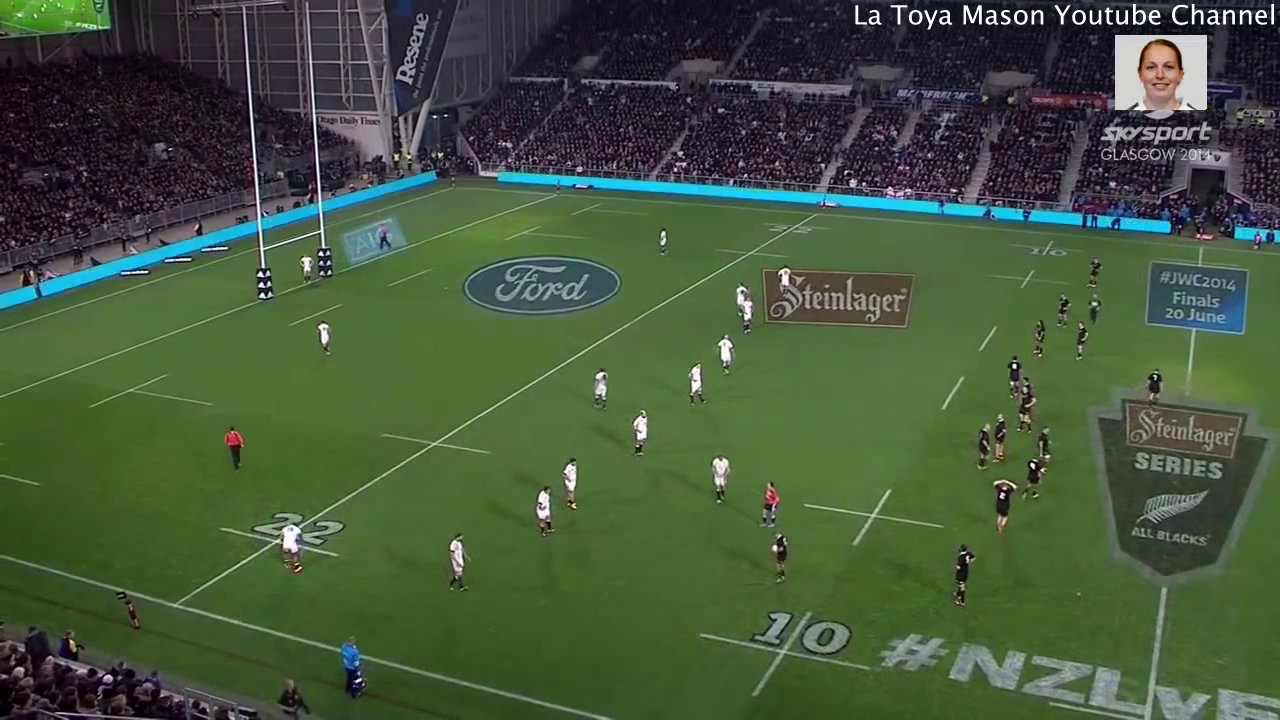10_metre: (692, 604, 879, 704), (801, 486, 947, 553), (1008, 238, 1084, 263), (985, 268, 1071, 290)
ball: (770, 540, 779, 552)
player: (443, 528, 473, 598), (763, 525, 796, 588), (948, 542, 979, 608), (529, 482, 561, 540), (990, 474, 1019, 537), (273, 518, 306, 573), (221, 419, 250, 478), (556, 450, 583, 513), (750, 478, 781, 530), (706, 450, 734, 507), (683, 359, 713, 411), (1018, 454, 1044, 503), (585, 365, 612, 412), (628, 407, 651, 460), (711, 331, 736, 376), (1035, 421, 1057, 470), (1014, 385, 1035, 434), (313, 318, 336, 359), (1051, 288, 1071, 331), (1144, 364, 1163, 409), (974, 422, 991, 472), (1005, 355, 1023, 401), (992, 414, 1008, 464), (1029, 317, 1047, 360), (737, 296, 755, 338), (1082, 254, 1103, 290), (1072, 318, 1089, 361), (295, 249, 315, 284), (776, 261, 793, 299), (1085, 291, 1103, 326), (730, 279, 749, 310), (655, 224, 671, 259), (1018, 376, 1032, 392)
post: (236, 1, 335, 305)
